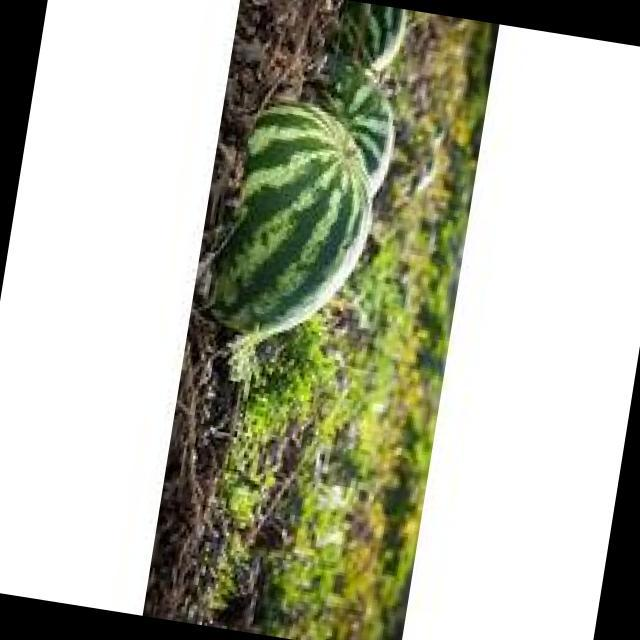watermelon: (206, 106, 376, 343), (307, 62, 398, 180), (326, 0, 412, 59)
